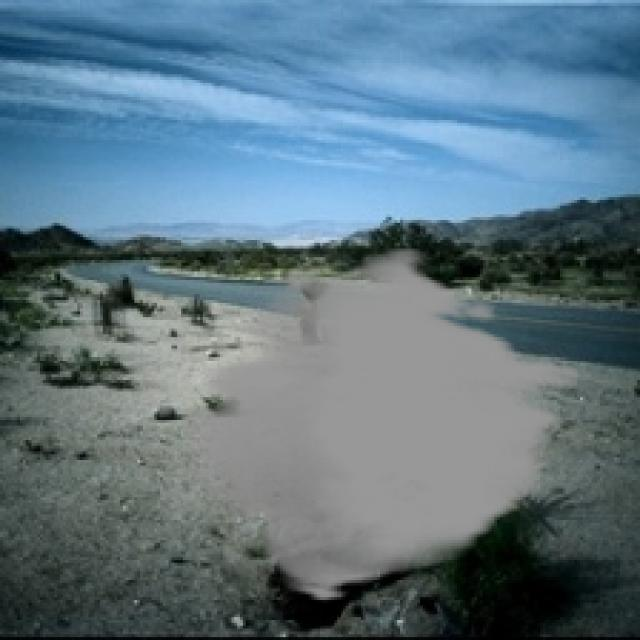smoke: (183, 246, 577, 603)
